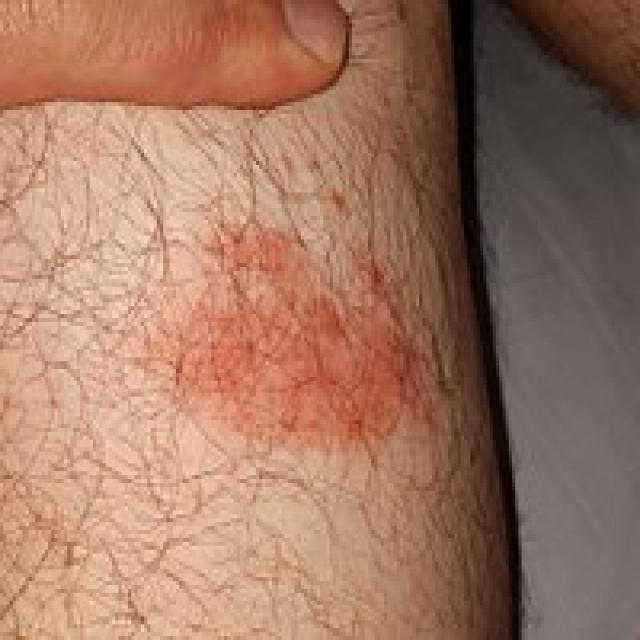Erythema migrans: (169, 183, 451, 546)
